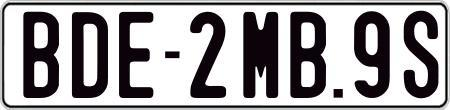2: (190, 9, 232, 101)
9: (351, 9, 392, 98)
B: (20, 12, 58, 103), (290, 11, 329, 99)
D: (69, 9, 105, 98)
E: (117, 9, 157, 100)
M: (243, 12, 280, 98)
S: (401, 8, 430, 95)
